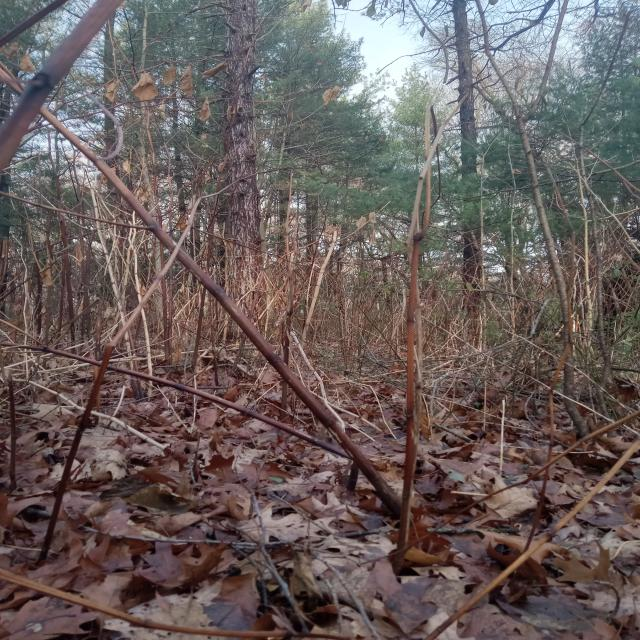knotweed-stems: (2, 3, 414, 570), (391, 104, 445, 574)
tree trunks: (215, 1, 264, 374), (448, 1, 486, 353)
